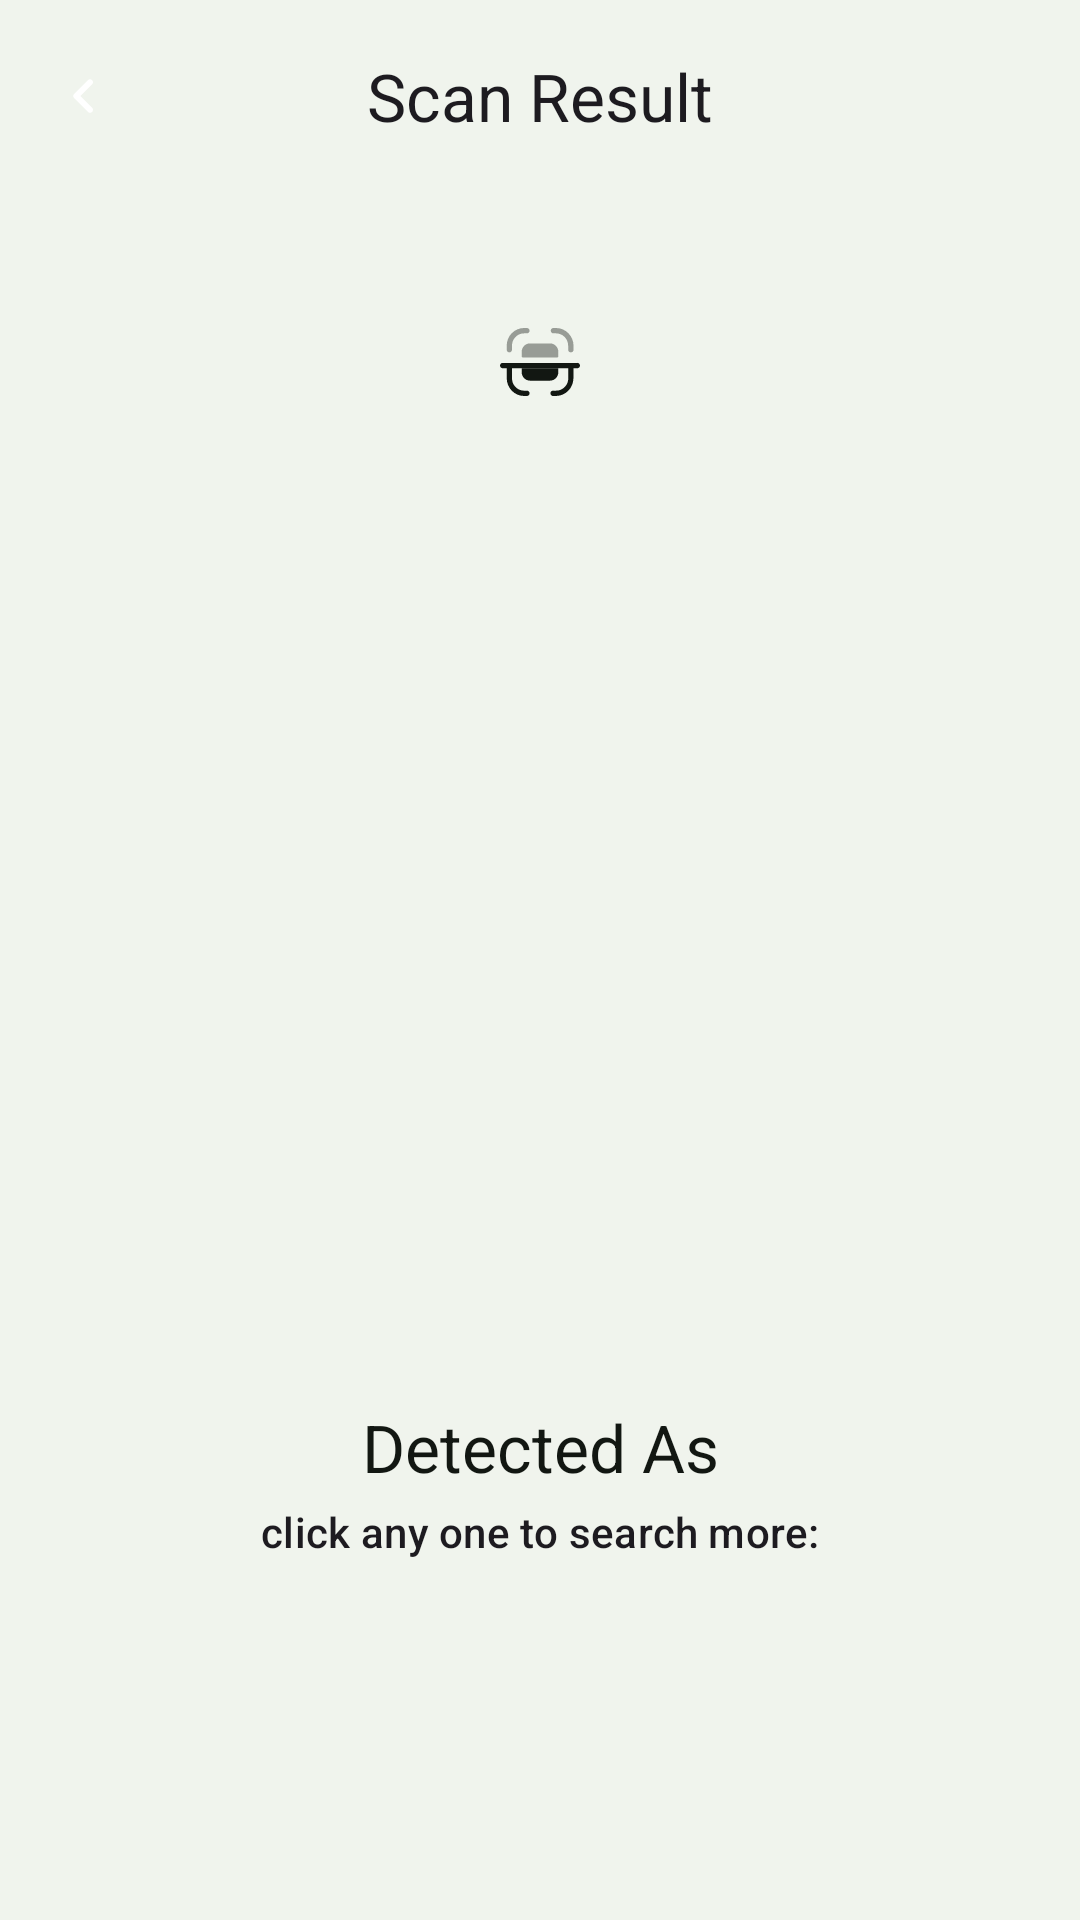

Icon click points for this 1080 x 1920 phone screenshot, format (x=x, y=y):
Scan Result: (x=540, y=362)
